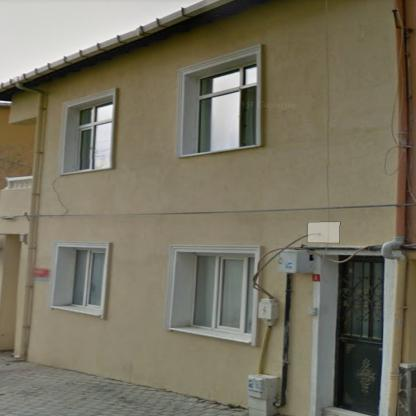door: (339, 258, 382, 413)
window: (183, 253, 256, 337), (196, 61, 255, 152), (78, 101, 112, 170), (69, 248, 104, 310)
